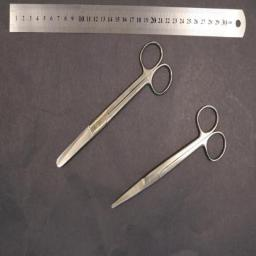Curved Mayo Scissors: (112, 103, 226, 209)
Dressing Scissors: (56, 40, 174, 168)
